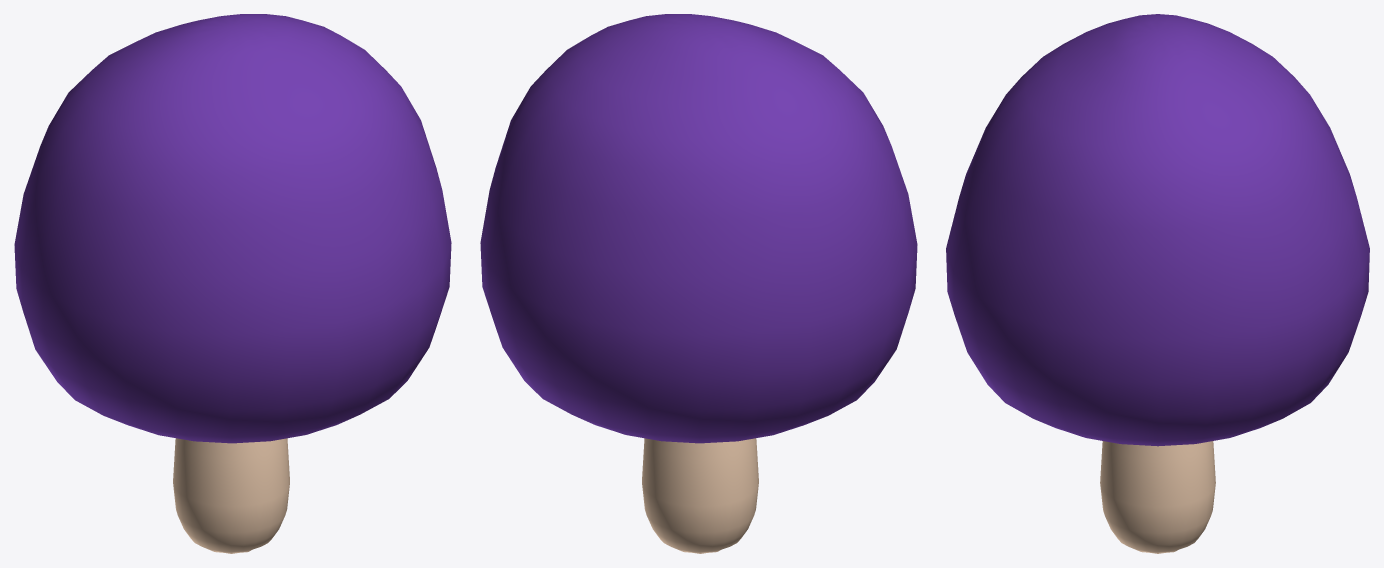
File: Teleport_mushroom.fbx
3 renders of one model, left to right at view 1: azimuth 30°, elevation 25°; view 2: azimuth 150°, elevation 25°; view 3: azimuth 270°, elevation 25°, orthographic.
Parts seen in each view (by area): view 1: Cylinder.001; view 2: Cylinder.001; view 3: Cylinder.001.
Part boxes in pixels (x1,y1,x2,y2): Cylinder.001: [14, 14, 451, 553]; Cylinder.001: [480, 14, 917, 553]; Cylinder.001: [946, 14, 1369, 553].
Bounding box in the file's own units: 50.11 × 64.98 × 48.89.
